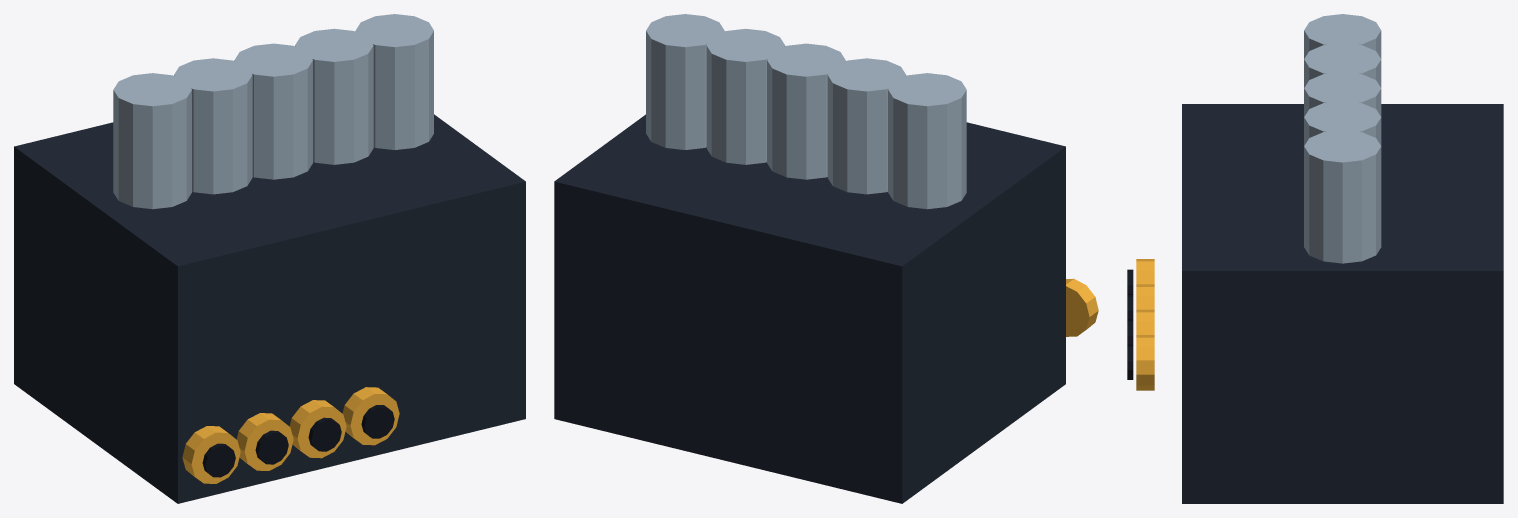
Rendered from 30_L86_CompliantInsertionController.fbx.
3 views of the same model, side by side, from view 1: azimuth 30°, elevation 25°; view 2: azimuth 150°, elevation 25°; view 3: azimuth 270°, elevation 25° (orthographic).
Visible parts, largest first — view 1: L86_CompliantInsertionController, L86_CompliantInsertionController_Part_0001, L86_CompliantInsertionController_Part_0002, L86_CompliantInsertionController_Part_0008, L86_CompliantInsertionController_Part_0004, L86_CompliantInsertionController_Part_0006, L86_CompliantInsertionController_Part_0003, L86_CompliantInsertionController_Part_0005, L86_CompliantInsertionController_Part_0007, L86_CompliantInsertionController_Part_0009; view 2: L86_CompliantInsertionController, L86_CompliantInsertionController_Part_0001, L86_CompliantInsertionController_Part_0002; view 3: L86_CompliantInsertionController, L86_CompliantInsertionController_Part_0001, L86_CompliantInsertionController_Part_0008, L86_CompliantInsertionController_Part_0002, L86_CompliantInsertionController_Part_0004, L86_CompliantInsertionController_Part_0006.
Boxes of the visible parts, <box> form: L86_CompliantInsertionController: <box>14,114,525,503</box>; L86_CompliantInsertionController_Part_0001: <box>113,14,433,209</box>; L86_CompliantInsertionController_Part_0002: <box>182,426,240,483</box>; L86_CompliantInsertionController_Part_0008: <box>342,387,399,445</box>; L86_CompliantInsertionController_Part_0004: <box>236,413,293,470</box>; L86_CompliantInsertionController_Part_0006: <box>289,400,346,458</box>; L86_CompliantInsertionController_Part_0003: <box>202,443,235,477</box>; L86_CompliantInsertionController_Part_0005: <box>255,430,288,464</box>; L86_CompliantInsertionController_Part_0007: <box>308,417,341,451</box>; L86_CompliantInsertionController_Part_0009: <box>361,405,394,438</box>; L86_CompliantInsertionController: <box>554,114,1065,503</box>; L86_CompliantInsertionController_Part_0001: <box>646,14,966,209</box>; L86_CompliantInsertionController_Part_0002: <box>1066,278,1098,336</box>; L86_CompliantInsertionController: <box>1182,104,1503,503</box>; L86_CompliantInsertionController_Part_0001: <box>1304,14,1381,263</box>; L86_CompliantInsertionController_Part_0008: <box>1136,335,1154,390</box>; L86_CompliantInsertionController_Part_0002: <box>1136,259,1154,284</box>; L86_CompliantInsertionController_Part_0004: <box>1136,284,1154,309</box>; L86_CompliantInsertionController_Part_0006: <box>1136,309,1154,334</box>.
Bounding box in the file's own units: 94.5 × 86 × 87.7.
